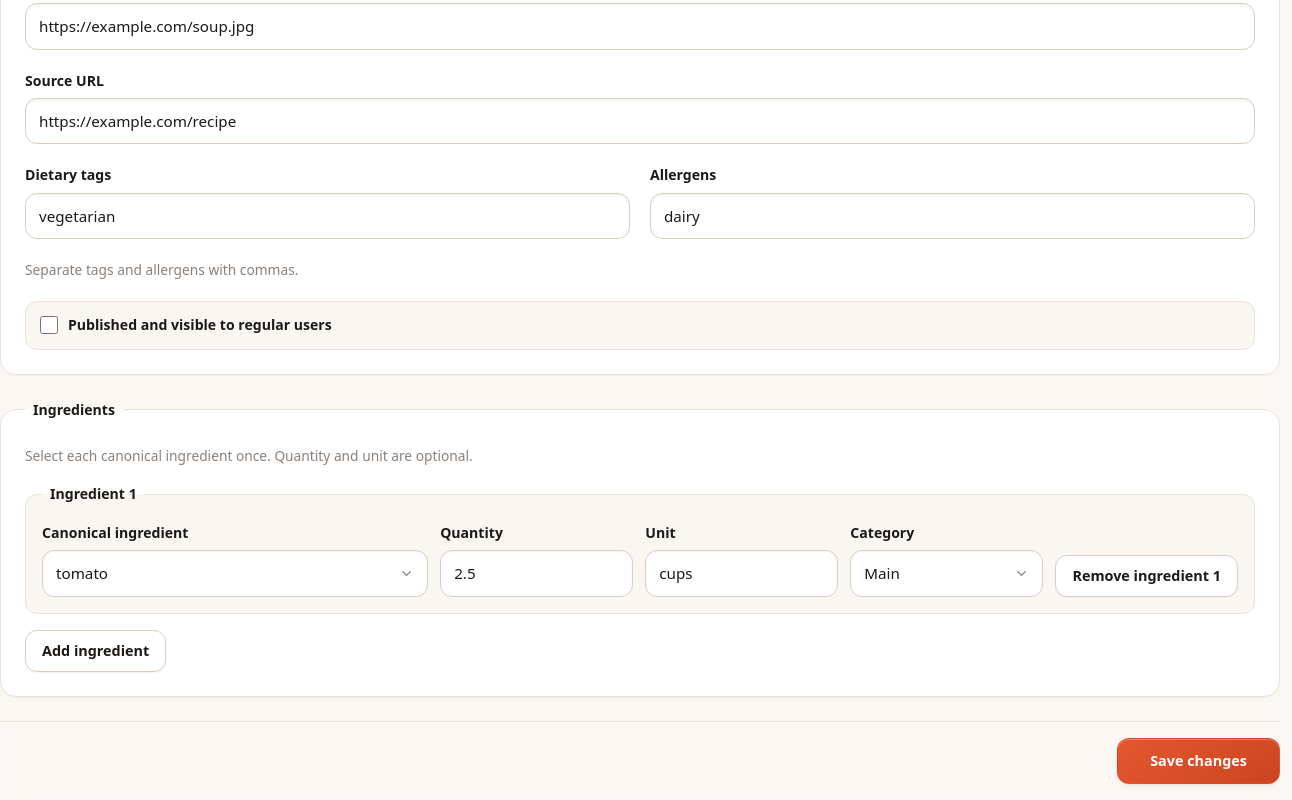
Test case: RecipeForm › allows the final row to be removed but rejects an ingredient-free submit
(page scrolled)
Click the button "Remove ingredient 1" at (1147, 576), box [1055,555,1238,597]
(page scrolled)
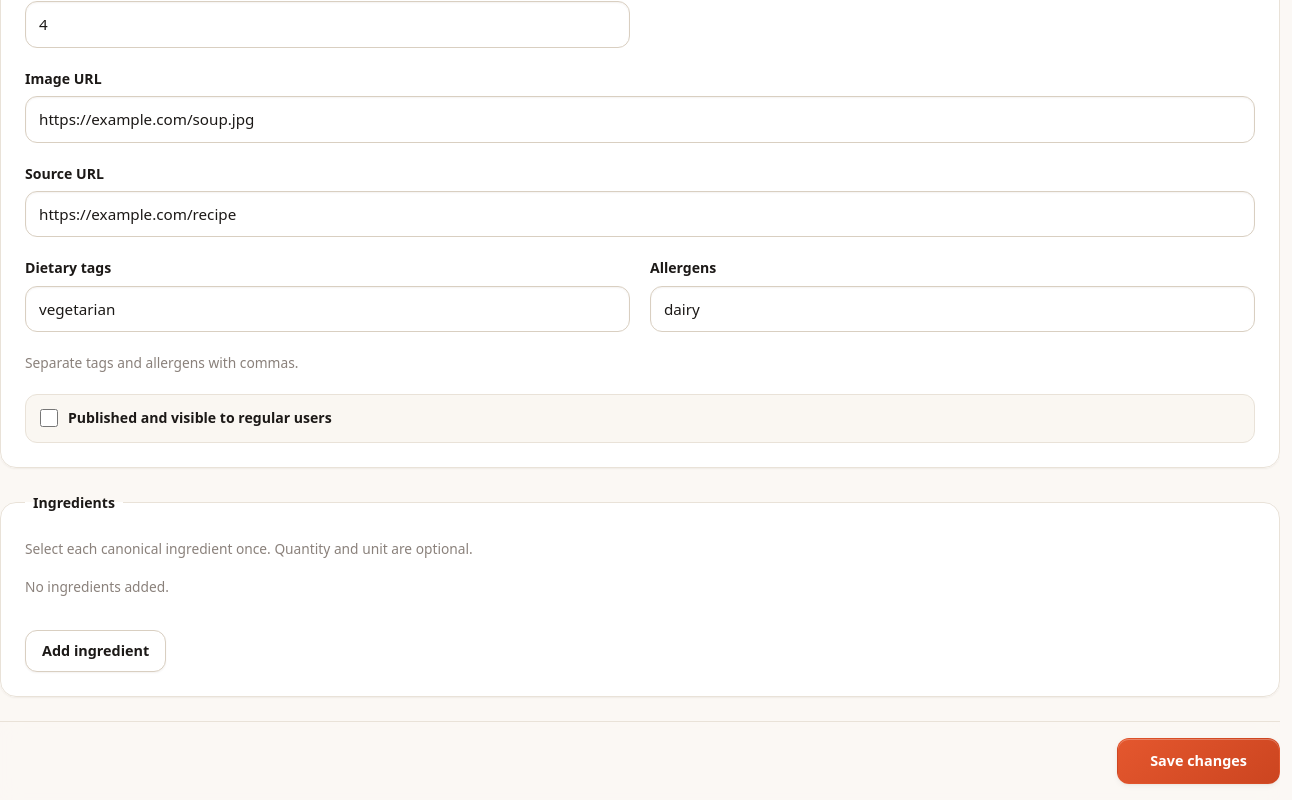
Click the button "Save changes" at (1199, 761), box [1117,738,1280,784]
(page scrolled)
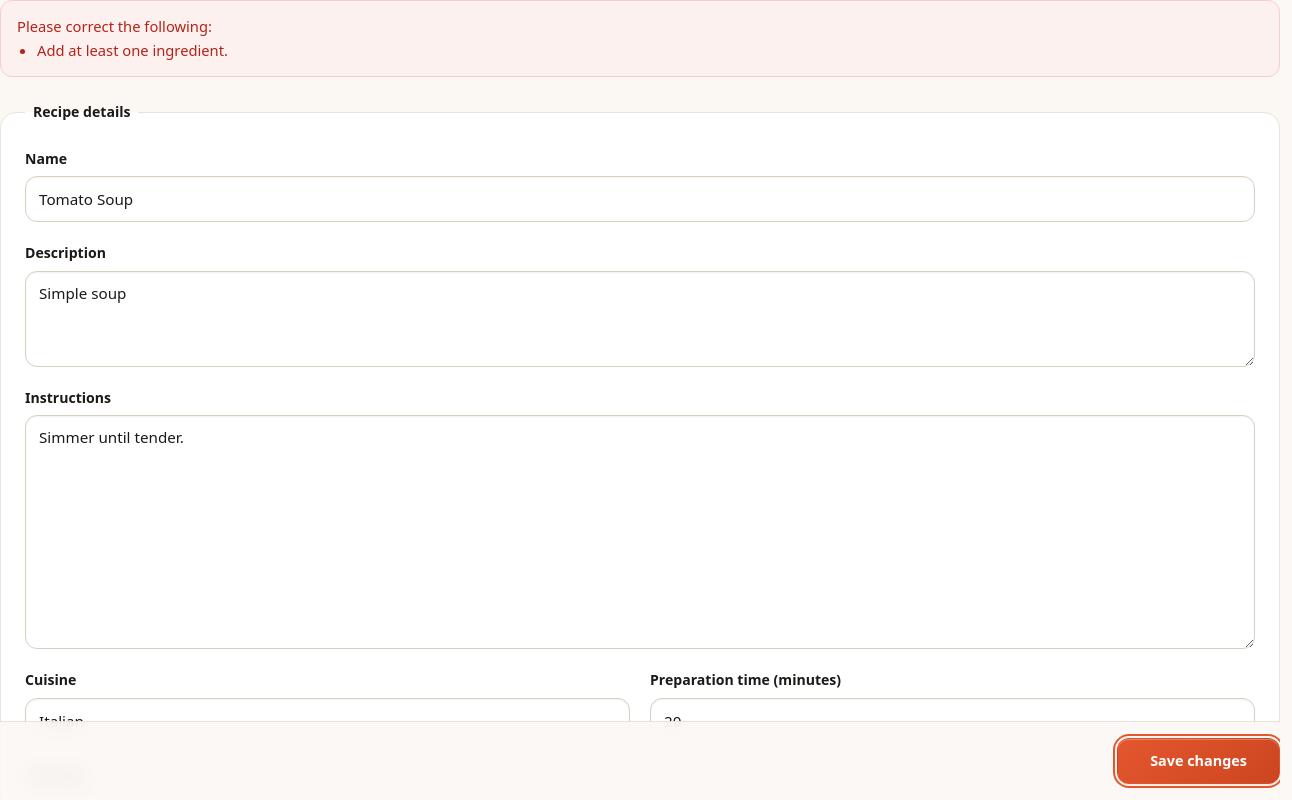
Now the message shows "Add at least one ingredient.", box [37,40,228,60]
